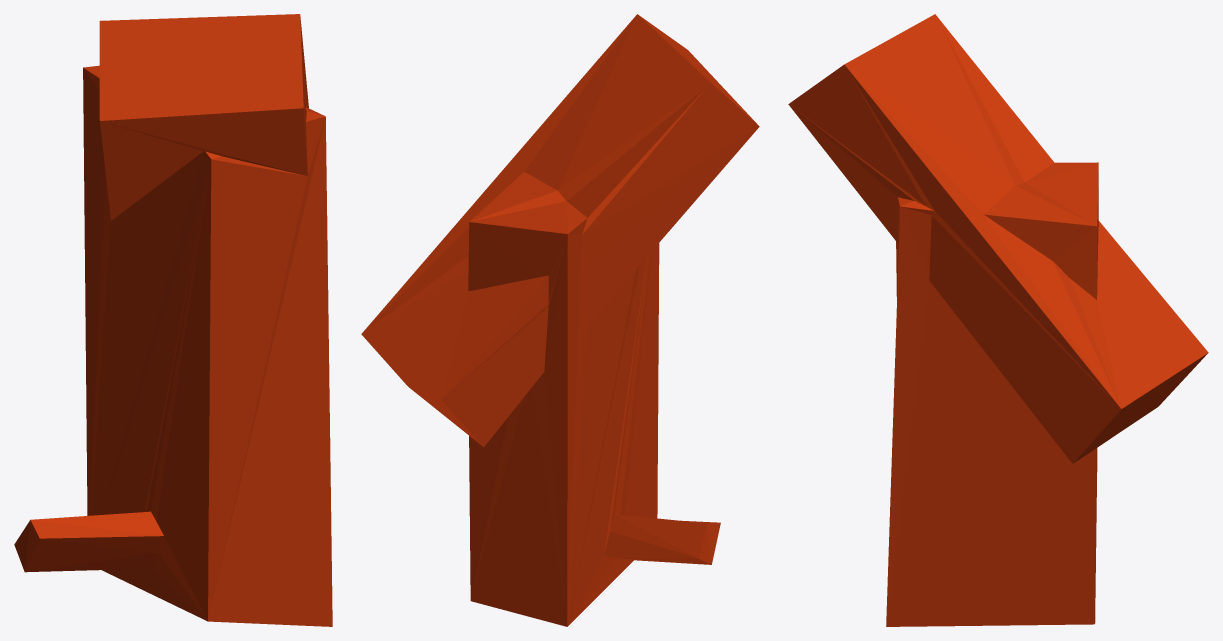
3 renders of one model, left to right at view 1: azimuth 30°, elevation 25°; view 2: azimuth 150°, elevation 25°; view 3: azimuth 270°, elevation 25°, orthographic. The views are drawn at different scales.
Parts seen in each view (by area): view 1: 917_Cube.3706; view 2: 917_Cube.3706; view 3: 917_Cube.3706.
Boxes of the visible parts, bbox=[...] form: 917_Cube.3706: bbox=[14, 14, 332, 626]; 917_Cube.3706: bbox=[361, 14, 759, 626]; 917_Cube.3706: bbox=[788, 14, 1208, 626].
Bounding box in the file's own units: 9.46 × 15.98 × 11.29.
